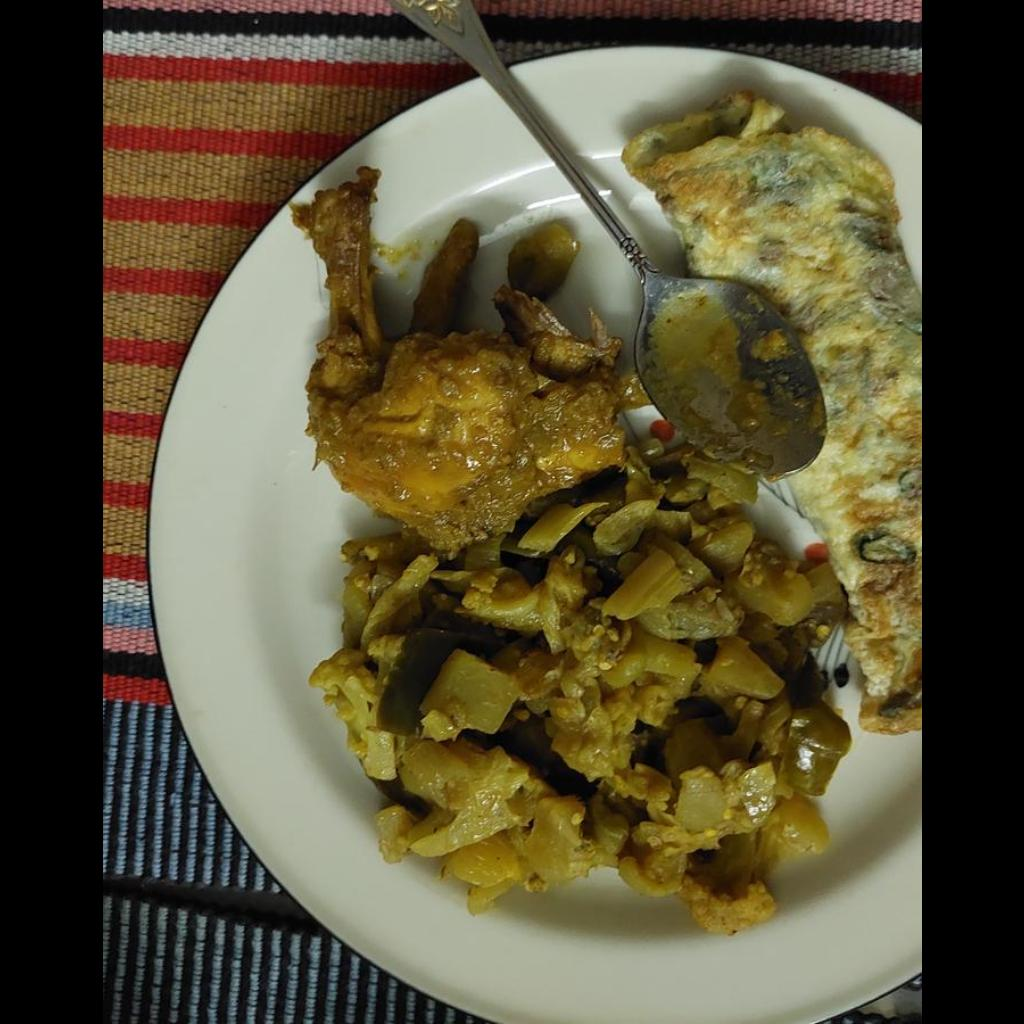chicken: (291, 161, 646, 545)
egg-poached: (621, 92, 920, 732)
vegetable: (305, 462, 858, 929)
